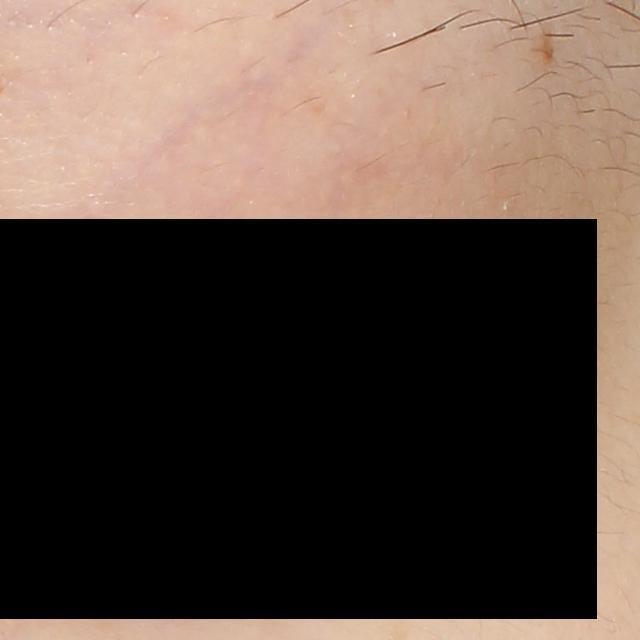melasma: (537, 25, 558, 68)
